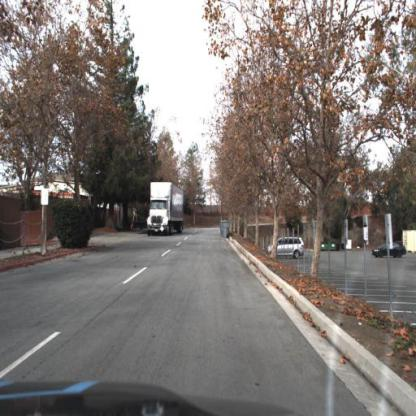car: (268, 235, 307, 262), (371, 239, 408, 260)
truck: (145, 180, 185, 234)
